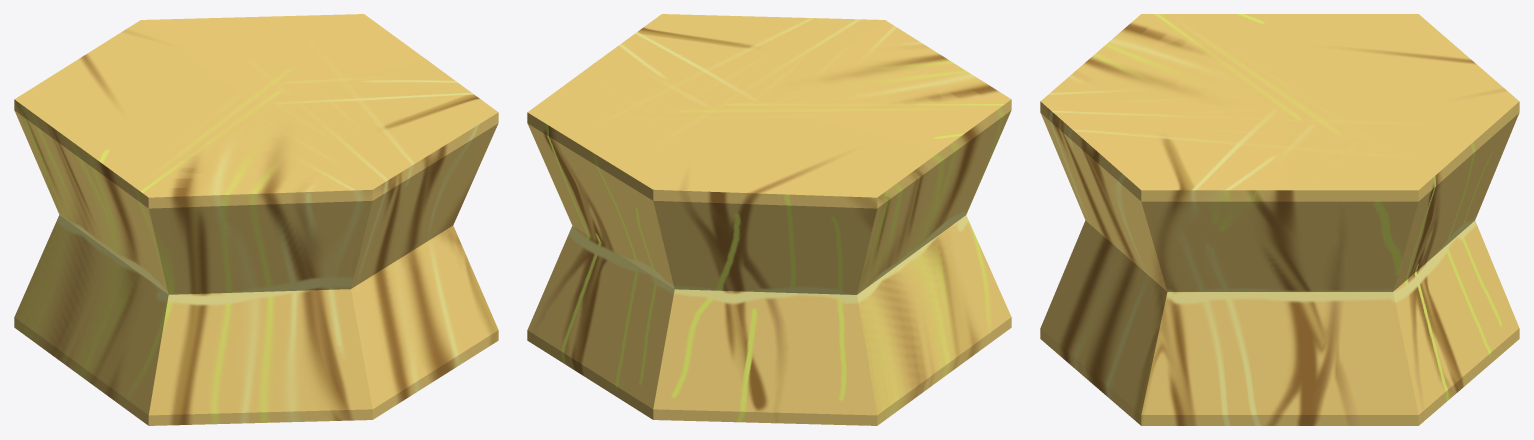
File: tile_champ.gltf
The picture shows the model from 3 angles, left to right: view 1: azimuth 30°, elevation 25°; view 2: azimuth 150°, elevation 25°; view 3: azimuth 270°, elevation 25°; orthographic projection. The views are drawn at different scales.
Visible parts, largest first — view 1: champ; view 2: champ; view 3: champ.
Part boxes in pixels (bbox=[...]): champ: bbox=[14, 14, 498, 425]; champ: bbox=[527, 14, 1011, 425]; champ: bbox=[1040, 14, 1519, 425].
Size of the model in its own units: 1.6 by 1.01 by 1.84.
1 material, 1 textured.
